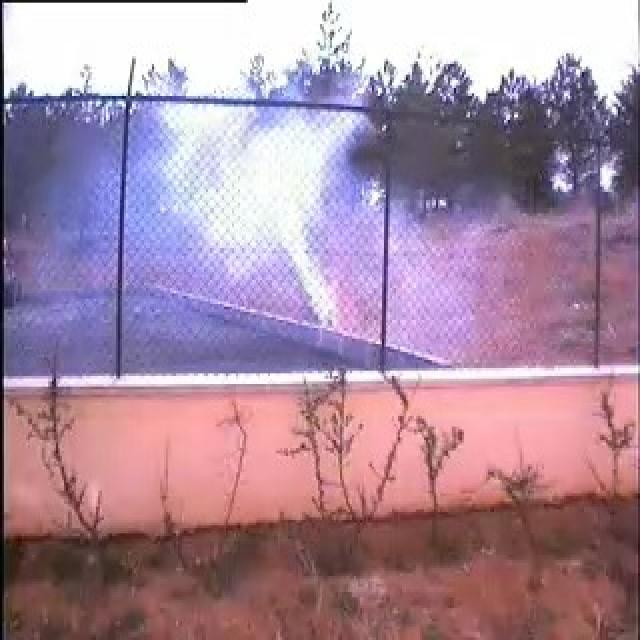smoke: (125, 93, 427, 374)
